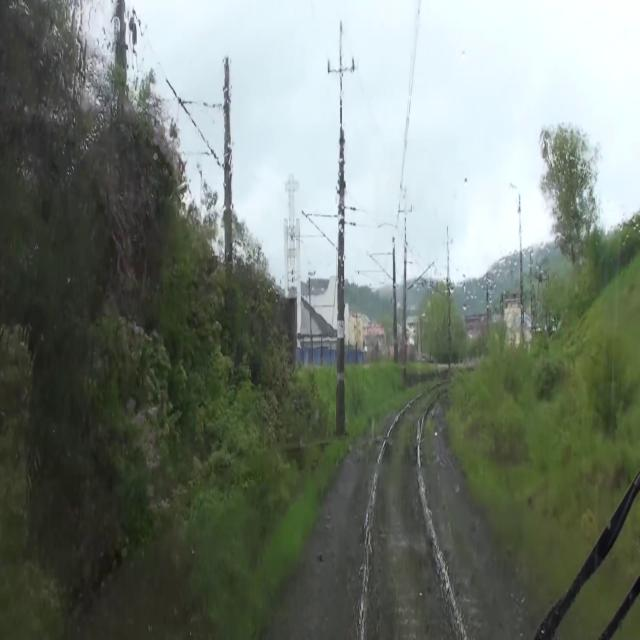rail-track: (364, 384, 461, 639)
